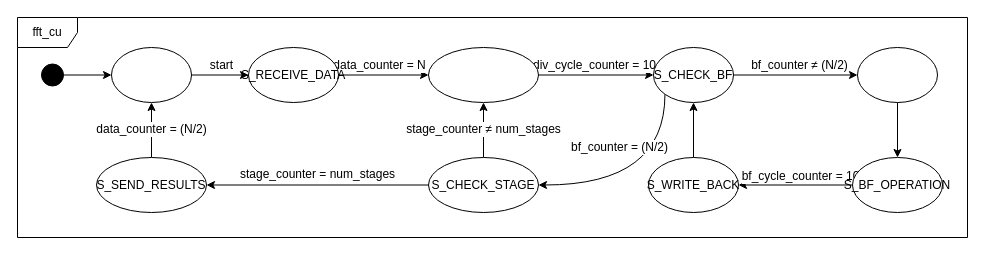
Image size: 985x255. Some labels were removed from this diagram. The box of each missing label's shape, as (x1, y1, x2, y2) in pixels:
S_CALC_STAGE_VARS: (428, 46, 538, 102)
S_IDLE: (110, 46, 192, 102)
S_READ_MEM: (856, 46, 938, 102)
